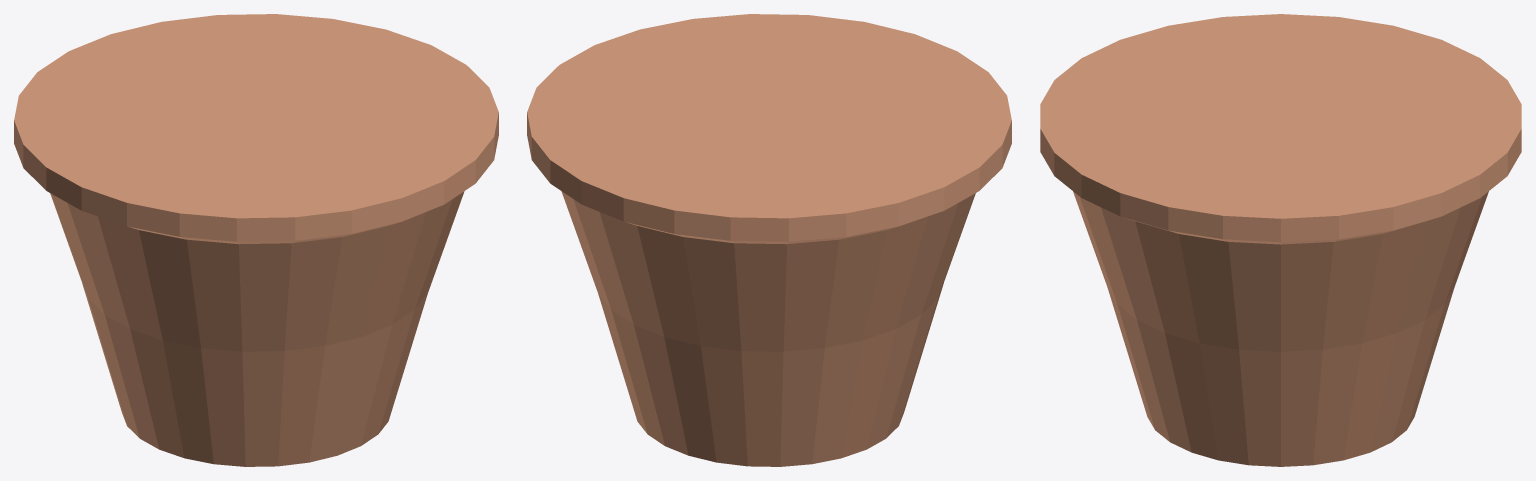
File: pot.glb
3 renders of one model, left to right at view 1: azimuth 30°, elevation 25°; view 2: azimuth 150°, elevation 25°; view 3: azimuth 270°, elevation 25°, orthographic.
Visible parts, largest first — view 1: intact_mesh, shard_002, shard_007, shard_000, shard_005, shard_003, shard_006, shard_009; view 2: intact_mesh, shard_000, shard_002, shard_004, shard_006, shard_001, shard_003, shard_009; view 3: intact_mesh, shard_000, shard_003, shard_002, shard_001, shard_006, shard_008, shard_005, shard_009.
Boxes of the visible parts, x1,y1,x2,y2 form: intact_mesh: (14,14,498,466); shard_002: (125,112,497,284); shard_007: (126,266,367,463); shard_000: (14,88,487,218); shard_005: (342,219,454,444); shard_003: (67,231,188,458); shard_006: (50,193,165,277); shard_009: (16,148,151,241); intact_mesh: (527,14,1011,466); shard_000: (527,31,1010,239); shard_002: (639,14,1011,121); shard_004: (673,257,922,461); shard_006: (562,193,975,286); shard_001: (572,221,703,458); shard_003: (870,238,959,435); shard_009: (527,134,1003,252); intact_mesh: (1040,14,1521,466); shard_000: (1170,18,1521,240); shard_003: (1214,282,1317,464); shard_002: (1040,25,1170,272); shard_001: (1353,243,1457,457); shard_006: (1170,191,1488,286); shard_008: (1317,281,1353,464); shard_005: (1113,266,1214,458); shard_009: (1170,154,1519,253).
Bounding box in the file's own units: 0.7776 × 0.52 × 0.7719.
